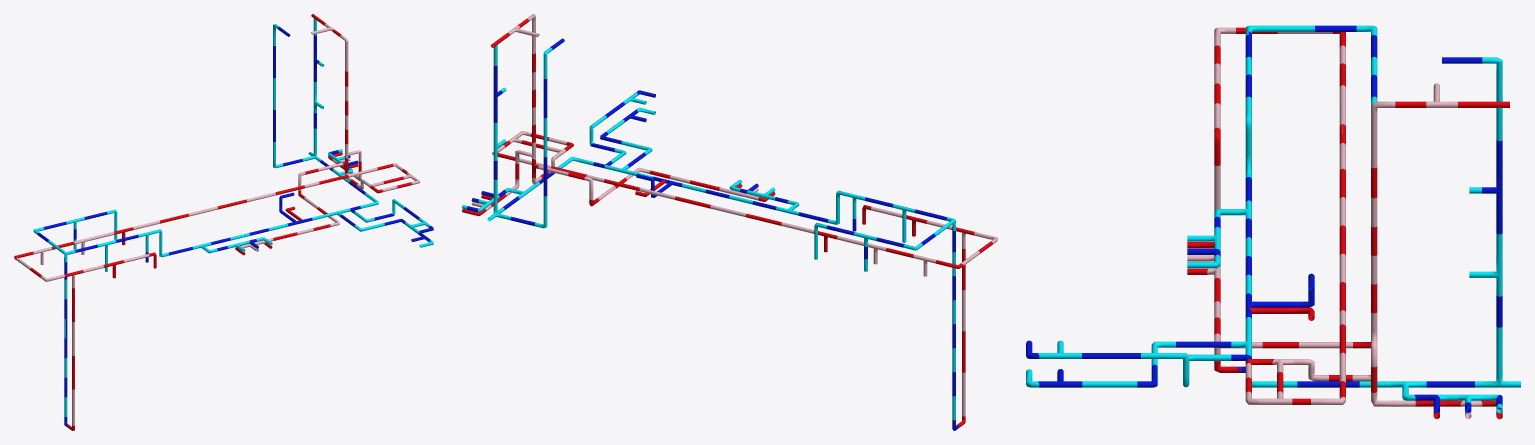
The model's file is AirCooler.glb.
3 renders of one model, left to right at view 1: azimuth 30°, elevation 25°; view 2: azimuth 150°, elevation 25°; view 3: azimuth 270°, elevation 25°, orthographic. The views are drawn at different scales.
Visible parts, largest first — view 1: pipes.035, pipes.061; view 2: pipes.035, pipes.061; view 3: pipes.035, pipes.061.
Part boxes in pixels (x1,y1,x2,y2): pipes.035: (33, 18, 433, 426); pipes.061: (14, 14, 419, 430); pipes.035: (462, 38, 958, 430); pipes.061: (462, 14, 997, 427); pipes.035: (1026, 25, 1520, 413); pipes.061: (1187, 27, 1509, 419).
Size of the model in its own units: 28.2 by 20.41 by 15.78.
